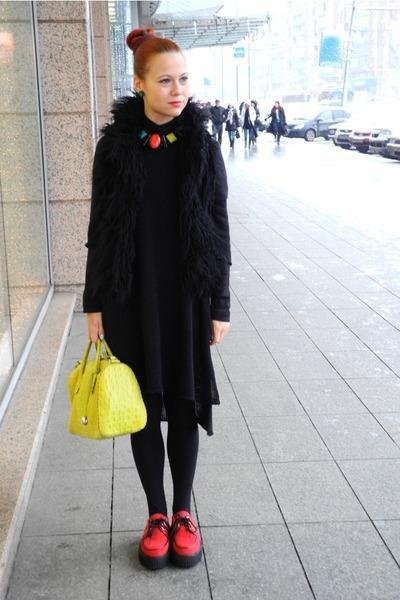bag: (68, 337, 146, 439)
dress: (83, 91, 231, 443)
shoe: (138, 509, 209, 586)
